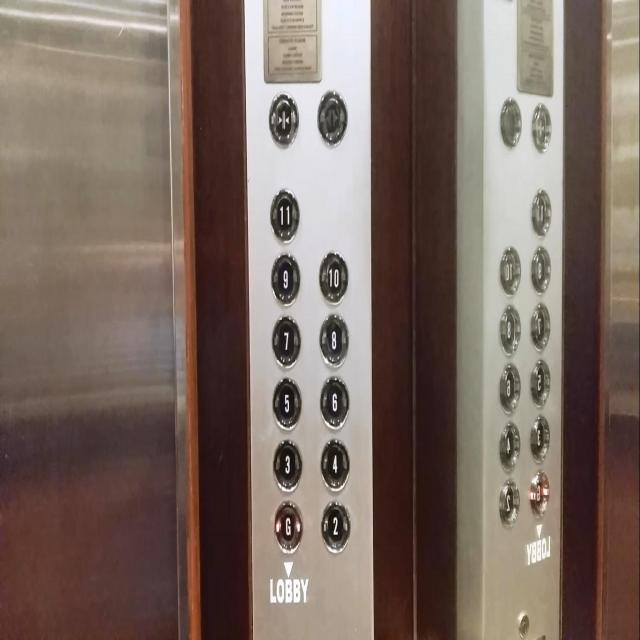10: (317, 246, 349, 306)
11: (268, 187, 300, 246)
2: (319, 498, 352, 557)
3: (271, 436, 303, 495)
4: (319, 435, 351, 495)
5: (271, 374, 303, 433)
6: (319, 374, 350, 433)
7: (270, 312, 302, 371)
8: (318, 312, 350, 370), (497, 302, 522, 358)
9: (269, 250, 302, 308)
G: (271, 496, 304, 556)
close: (267, 91, 300, 151), (528, 99, 553, 155)
empty: (499, 94, 523, 150)
open: (315, 88, 349, 148)
unknown: (529, 184, 554, 240), (529, 241, 554, 297), (528, 412, 553, 468), (528, 466, 553, 522), (529, 296, 553, 352), (529, 355, 553, 411), (497, 476, 521, 532), (497, 418, 521, 474), (497, 361, 521, 417), (497, 242, 521, 298)
